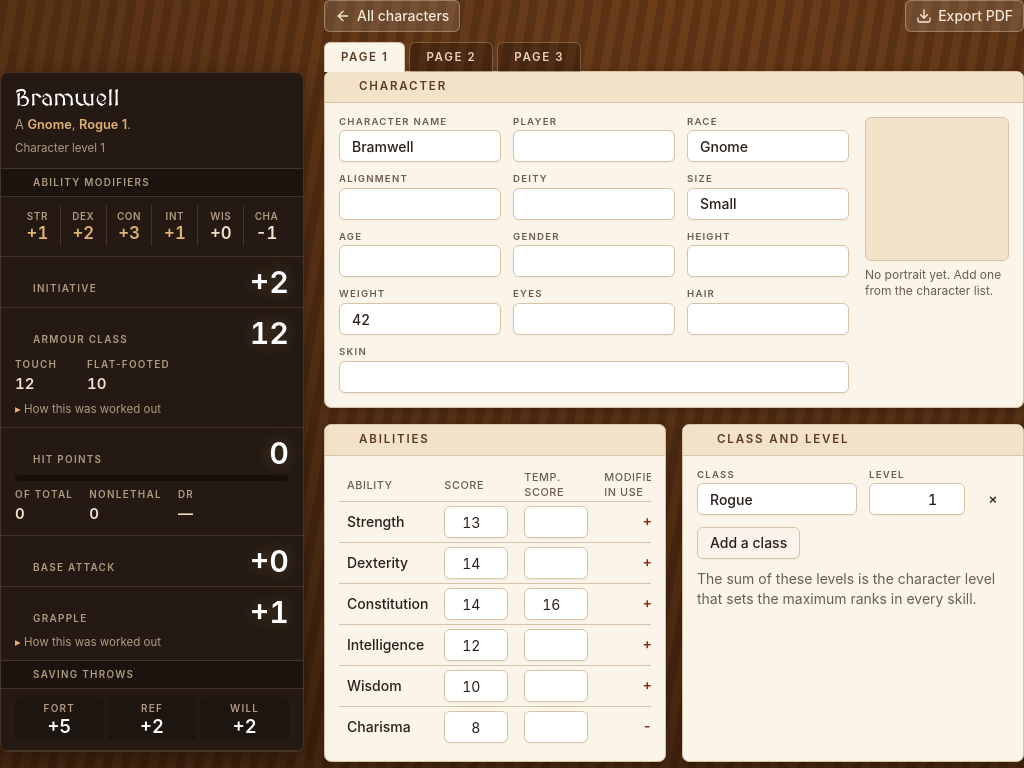
Test: displaying derived values › shows the encumbrance figures the sheet asks you to work out
Encumbrance sits with the possessions that drive it — page two of the record sheet.
Click the tab "Page 2". click: {"x": 451, "y": 57}
box: [410,42,493,72]
(page scrolled)
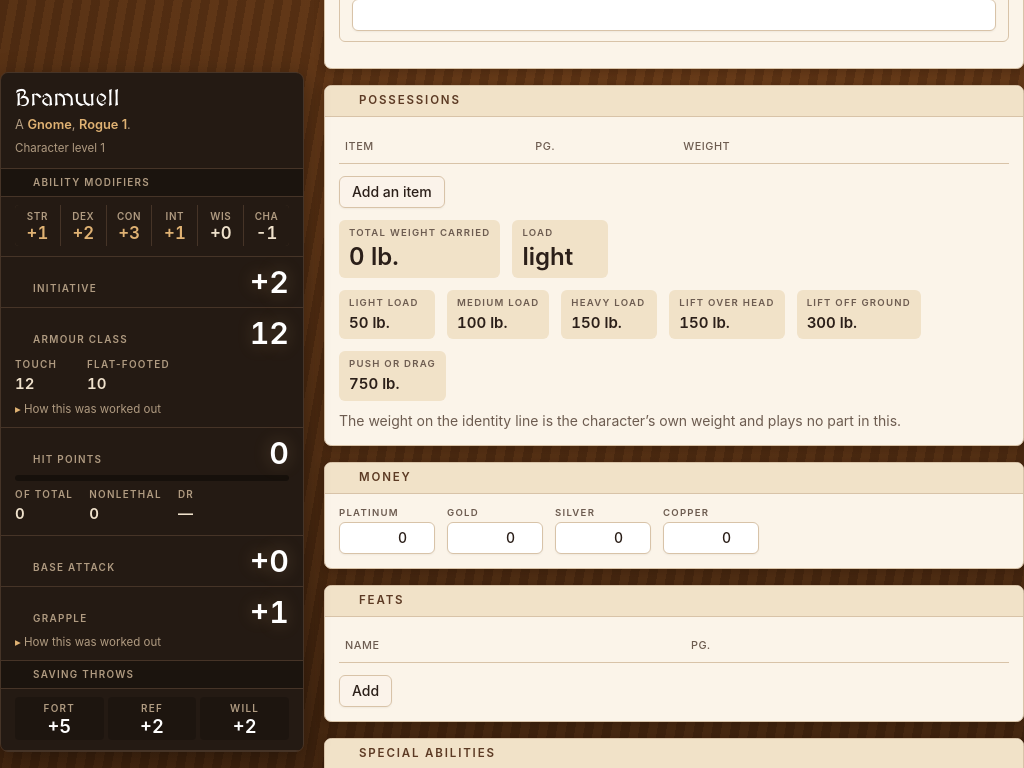
Now the text named "Light load" reads "50 lb.", box [349,312,390,332]
Now the text named "Lift off ground" reads "300 lb.", box [807,312,857,332]
Now the text named "Push or drag" reads "750 lb.", box [349,374,400,393]
